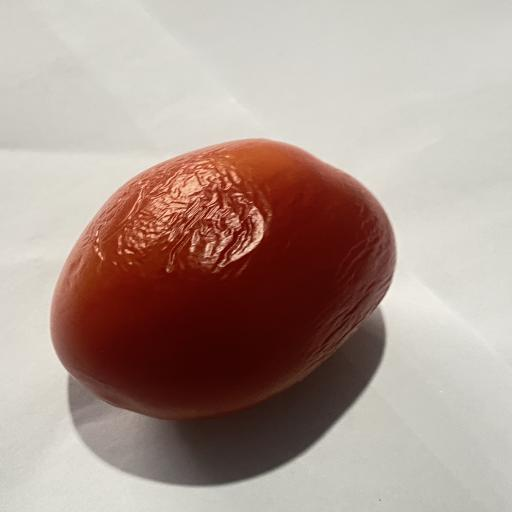spoiled: (51, 139, 395, 420)
